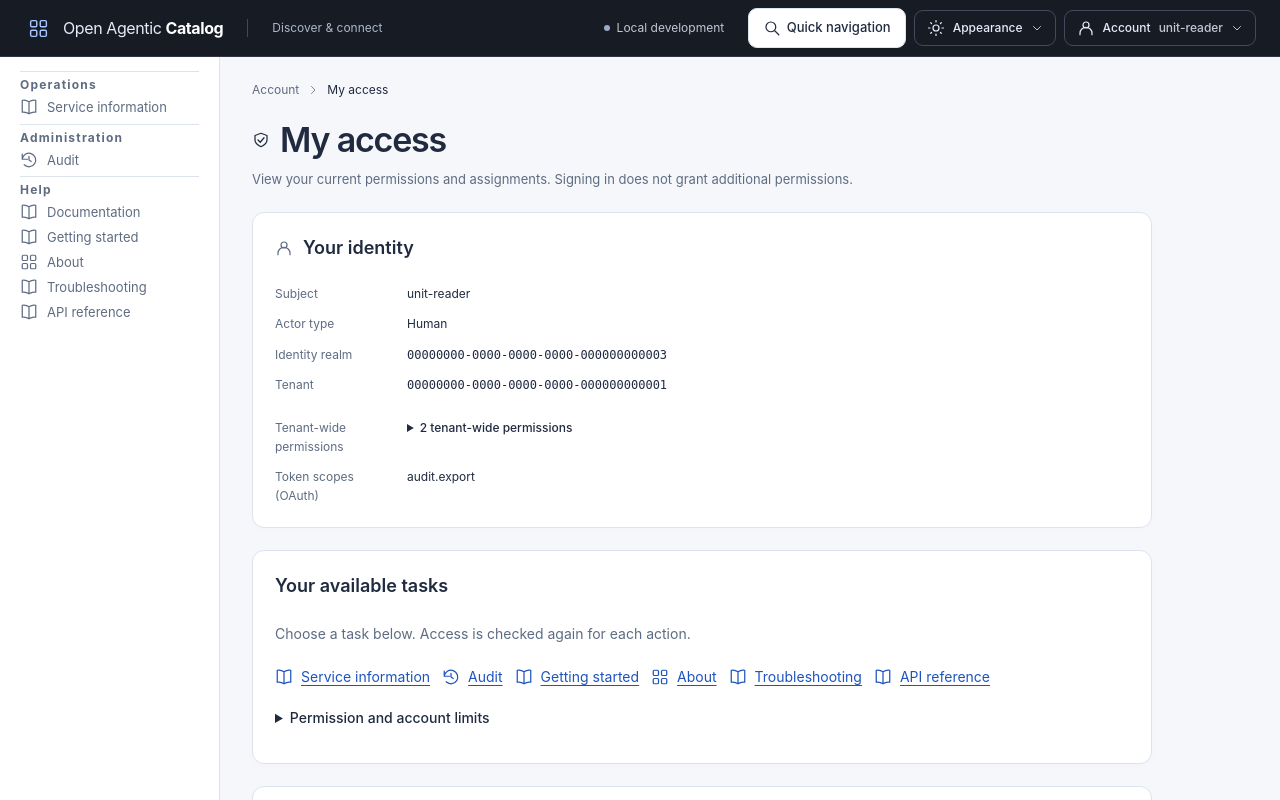
Test case: shell controls › keeps Audit in Administration without adding authority requirements
The width and height of the screenshot is (1280, 800).
Click the heading titled "Account".
click(1160, 28)  # box [1064, 10, 1256, 46]
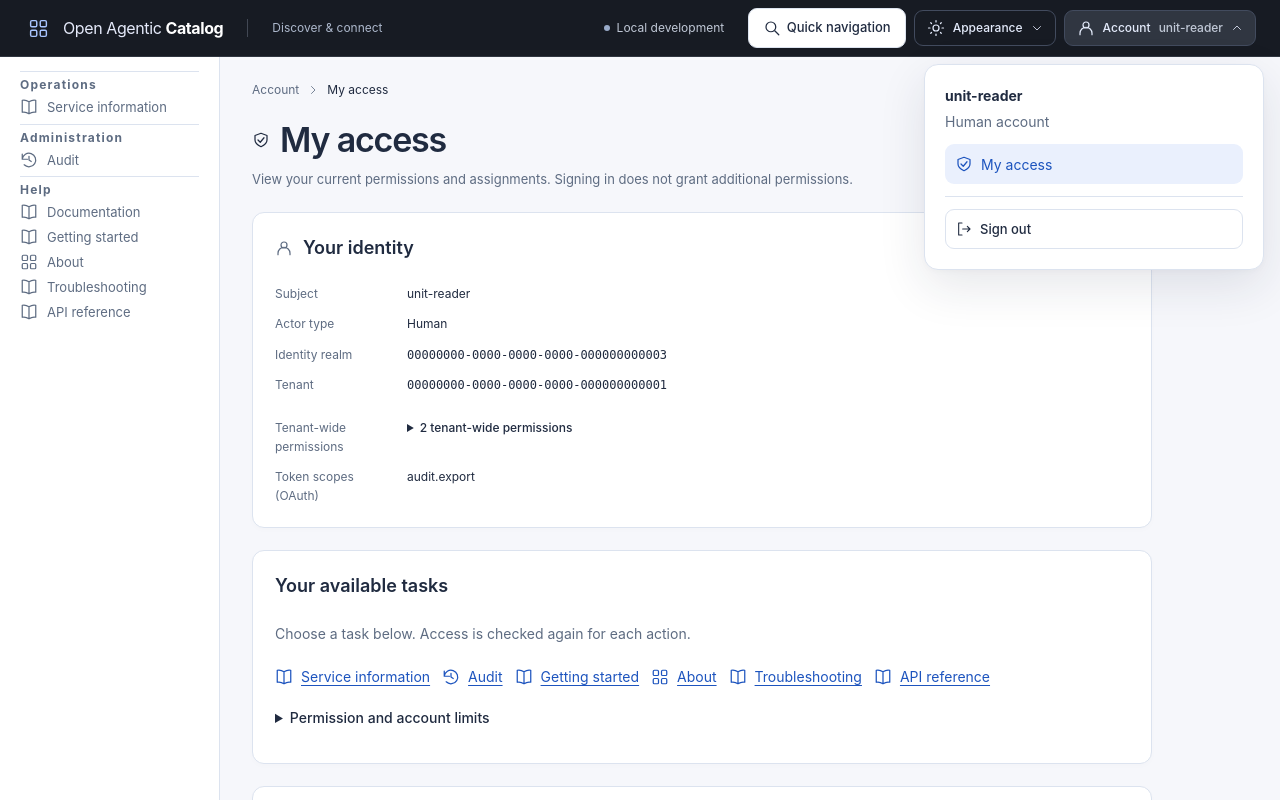
Expected: the link "Audit" below "Administration" is shown, [20, 151, 79, 169]
Expected: the text "Human account" is shown, [945, 113, 1049, 130]
